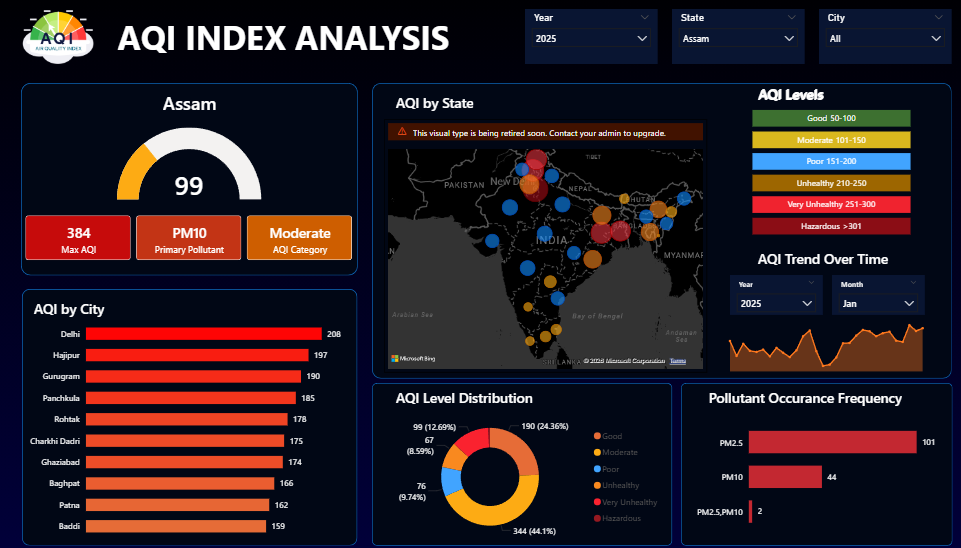

Layout of this report page (visuals, bound fields, positions):
{"tool":"powerbi","page":{"name":"AQI INDEX ANALYSIS","canvas":[1400,800],"ordinal":0},"visuals":[{"type":"shape","box":[30,120,490,280],"z":0,"group":"g1"},{"type":"textbox","box":[166,16,638,92],"z":0},{"type":"image","box":[30,0,108,108],"z":1000},{"type":"slicer","fields":{"Values":["Calendar Table.Year"]},"box":[763.3,13.3,193.3,80],"z":2000},{"type":"slicer","fields":{"Values":["day_wise_aqi_data.state"]},"box":[977.5,13.3,193.3,80],"z":3000},{"type":"gauge","fields":{"Y":["day_wise_aqi_data.Avg AQI"]},"box":[125,180,300,115],"z":3000,"group":"g1"},{"type":"slicer","fields":{"Values":["day_wise_aqi_data.area"]},"box":[1191.7,13.3,193.3,80],"z":4000},{"type":"shape","box":[541.7,120,843.3,430],"z":5000},{"type":"cardVisual","fields":{"Data":["day_wise_aqi_data.State Map Title"]},"box":[558.6,120,270,52.9],"z":6000},{"type":"group","id":"g1","title":"Group 1","box":[30,120,490,280],"z":7000},{"type":"cardVisual","fields":{"Data":["Max(day_wise_aqi_data.aqi_value)","day_wise_aqi_data.Primary Pollutant","day_wise_aqi_data.AQI Category KPI"]},"box":[31.7,308.3,485,75],"z":7000,"group":"g1"},{"type":"cardVisual","fields":{"Data":["day_wise_aqi_data.KPI title"]},"box":[140,120,270,53.3],"z":8000,"group":"g1"},{"type":"map","fields":{"Category":["day_wise_aqi_data.state"],"Size":["day_wise_aqi_data.Avg AQI"]},"box":[558.6,172.9,470,368.6],"z":8000},{"type":"barChart","fields":{"Category":["day_wise_aqi_data.AQI Category"],"Y":["day_wise_aqi_data.Label"]},"box":[1090,147.1,240,200],"z":9000},{"type":"cardVisual","fields":{"Data":["day_wise_aqi_data.AQI Level Title"]},"box":[1085.7,108.6,270,52.9],"z":10000},{"type":"areaChart","fields":{"Category":["Calendar Table.Date.Variation.Date Hierarchy.Day"],"Y":["day_wise_aqi_data.Avg AQI"]},"box":[1036.7,455,320,90],"z":11000},{"type":"slicer","fields":{"Values":["Calendar Table.Date.Variation.Date Hierarchy.Year"]},"box":[1061.7,400,135,58.3],"z":12000},{"type":"slicer","fields":{"Values":["Calendar Table.Month"]},"box":[1210,400,135,58.3],"z":13000},{"type":"cardVisual","fields":{"Data":["day_wise_aqi_data.Title for Monthly Chart"]},"box":[1085.7,347.1,270,54.3],"z":14000},{"type":"cardVisual","fields":{"Data":["day_wise_aqi_data.AQI Level Title"]},"box":[1086.7,108.3,270,53.3],"z":15000},{"type":"shape","box":[31.6,420,487.7,373.3],"z":16000},{"type":"barChart","fields":{"Category":["day_wise_aqi_data.area"],"Y":["day_wise_aqi_data.Avg AQI"]},"box":[31.6,451.6,471.2,341.7],"z":17000},{"type":"cardVisual","fields":{"Data":["day_wise_aqi_data.Title for City"]},"box":[31.6,420,269.5,54.2],"z":18000},{"type":"shape","box":[541.7,556.7,436.7,236.7],"z":19000},{"type":"donutChart","fields":{"Category":["day_wise_aqi_data.AQI Category"],"Y":["day_wise_aqi_data.Count of Rows"]},"box":[556.7,593.3,413.3,200],"z":20000},{"type":"cardVisual","fields":{"Data":["day_wise_aqi_data.Donut Title"]},"box":[558.3,550,270,55],"z":21000},{"type":"shape","box":[990,556.7,395,236.7],"z":22000},{"type":"clusteredBarChart","fields":{"Category":["day_wise_aqi_data.prominent_pollutants"],"Y":["day_wise_aqi_data.Count of Rows"]},"box":[1001.7,593.3,371.7,195],"z":23000},{"type":"cardVisual","fields":{"Data":["day_wise_aqi_data.Pollutant Title"]},"box":[1013.3,550,348.3,55],"z":24000}]}

Visuals, with their boxes in screenshot pixels (x1, y1, x2, y2), scaled from the page's 1400x800 canvas onto the 961x548 screenshot:
shape: pyautogui.locateOnScreen(21, 82, 357, 274)
textbox: pyautogui.locateOnScreen(114, 11, 552, 74)
image: pyautogui.locateOnScreen(21, 0, 95, 74)
slicer - Calendar Table.Year: pyautogui.locateOnScreen(524, 9, 657, 64)
slicer - day_wise_aqi_data.state: pyautogui.locateOnScreen(671, 9, 804, 64)
gauge - day_wise_aqi_data.Avg AQI: pyautogui.locateOnScreen(86, 123, 292, 202)
slicer - day_wise_aqi_data.area: pyautogui.locateOnScreen(818, 9, 951, 64)
shape: pyautogui.locateOnScreen(372, 82, 951, 377)
cardVisual - day_wise_aqi_data.State Map Title: pyautogui.locateOnScreen(383, 82, 569, 118)
"Group 1" group: pyautogui.locateOnScreen(21, 82, 357, 274)
cardVisual - Max(day_wise_aqi_data.aqi_value) x day_wise_aqi_data.Primary Pollutant: pyautogui.locateOnScreen(22, 211, 355, 263)
cardVisual - day_wise_aqi_data.KPI title: pyautogui.locateOnScreen(96, 82, 281, 119)
map - day_wise_aqi_data.state x day_wise_aqi_data.Avg AQI: pyautogui.locateOnScreen(383, 118, 706, 371)
barChart - day_wise_aqi_data.AQI Category x day_wise_aqi_data.Label: pyautogui.locateOnScreen(748, 101, 913, 238)
cardVisual - day_wise_aqi_data.AQI Level Title: pyautogui.locateOnScreen(745, 74, 931, 111)
areaChart - Calendar Table.Date.Variation.Date Hierarchy.Day x day_wise_aqi_data.Avg AQI: pyautogui.locateOnScreen(712, 312, 931, 373)
slicer - Calendar Table.Date.Variation.Date Hierarchy.Year: pyautogui.locateOnScreen(729, 274, 821, 314)
slicer - Calendar Table.Month: pyautogui.locateOnScreen(831, 274, 923, 314)
cardVisual - day_wise_aqi_data.Title for Monthly Chart: pyautogui.locateOnScreen(745, 238, 931, 275)
cardVisual - day_wise_aqi_data.AQI Level Title: pyautogui.locateOnScreen(746, 74, 931, 111)
shape: pyautogui.locateOnScreen(22, 288, 356, 543)
barChart - day_wise_aqi_data.area x day_wise_aqi_data.Avg AQI: pyautogui.locateOnScreen(22, 309, 345, 543)
cardVisual - day_wise_aqi_data.Title for City: pyautogui.locateOnScreen(22, 288, 207, 325)
shape: pyautogui.locateOnScreen(372, 381, 672, 543)
donutChart - day_wise_aqi_data.AQI Category x day_wise_aqi_data.Count of Rows: pyautogui.locateOnScreen(382, 406, 666, 543)
cardVisual - day_wise_aqi_data.Donut Title: pyautogui.locateOnScreen(383, 377, 569, 414)
shape: pyautogui.locateOnScreen(680, 381, 951, 543)
clusteredBarChart - day_wise_aqi_data.prominent_pollutants x day_wise_aqi_data.Count of Rows: pyautogui.locateOnScreen(688, 406, 943, 540)
cardVisual - day_wise_aqi_data.Pollutant Title: pyautogui.locateOnScreen(696, 377, 935, 414)
